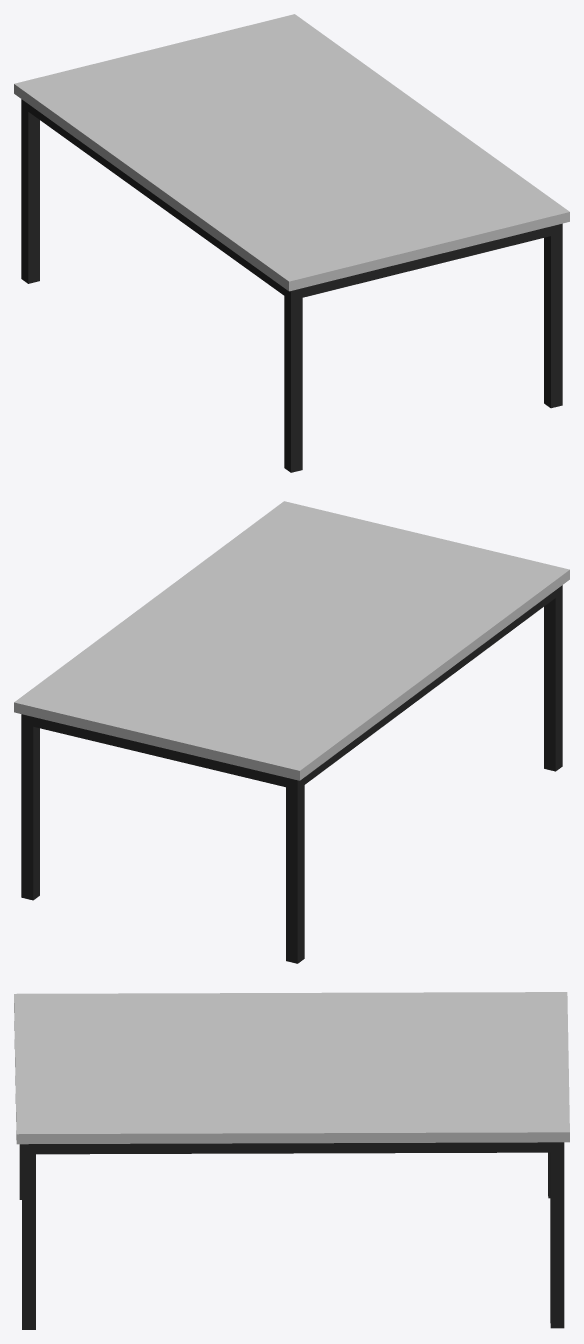
The model's file is rectangletable1.fbx.
3 renders of one model, top to bottom at view 1: azimuth 30°, elevation 25°; view 2: azimuth 150°, elevation 25°; view 3: azimuth 270°, elevation 25°, orthographic.
Visible parts, largest first — view 1: Rectangle002; view 2: Rectangle002; view 3: Rectangle002.
Part boxes in pixels (x1,y1,x2,y2): Rectangle002: [14, 14, 569, 472]; Rectangle002: [14, 501, 569, 963]; Rectangle002: [14, 992, 569, 1329].
Bounding box in the file's own units: 100 × 60.77 × 39.51.
